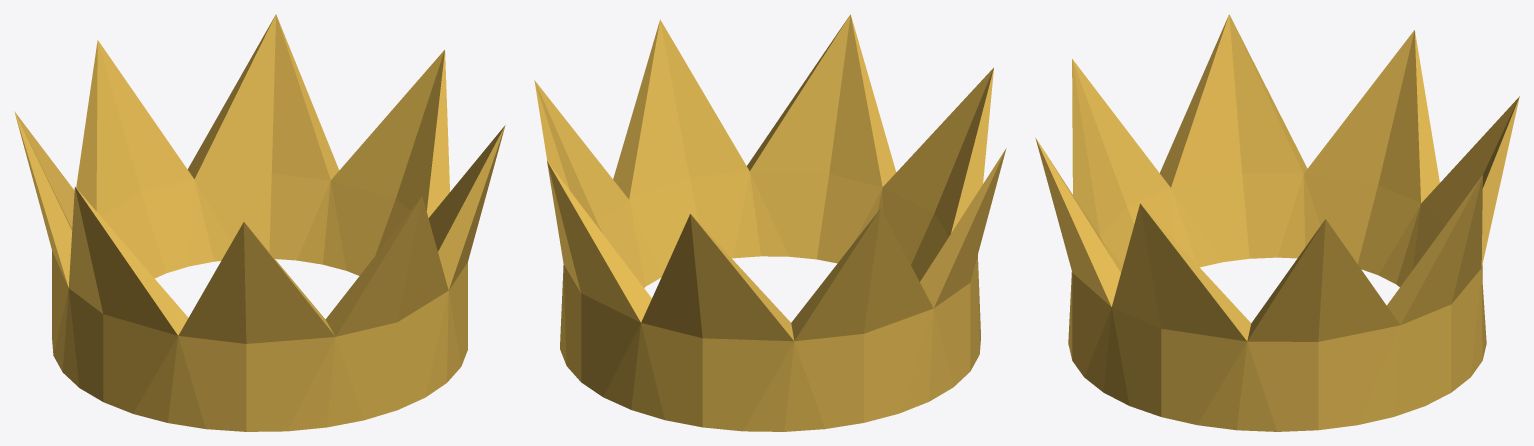
File: gold-crown.glb
The picture shows the model from 3 angles, left to right: view 1: azimuth 30°, elevation 25°; view 2: azimuth 150°, elevation 25°; view 3: azimuth 270°, elevation 25°; orthographic projection.
Visible parts, largest first — view 1: Cylinder; view 2: Cylinder; view 3: Cylinder.
Part boxes in pixels (x1,y1,x2,y2): Cylinder: (14, 14, 505, 431); Cylinder: (534, 14, 1006, 431); Cylinder: (1035, 14, 1519, 431).
Bounding box in the file's own units: 2.02 × 1.04 × 2.02.
